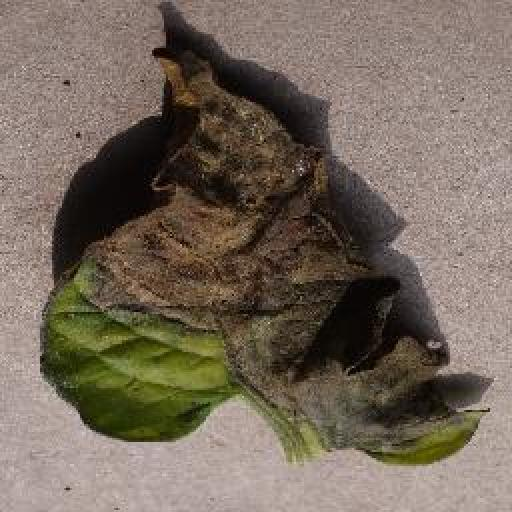Late Blight: (43, 46, 492, 466)
